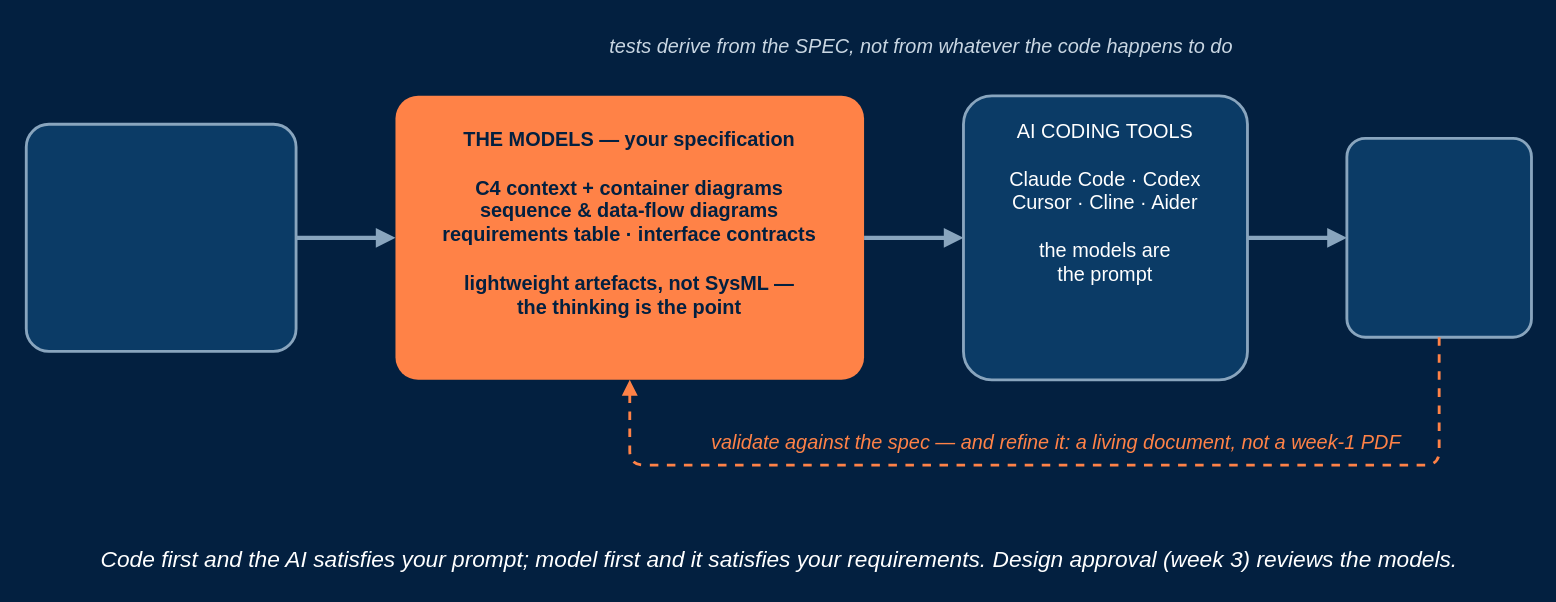
The diagram is 1556 pixels wide and 602 high, and some of its shapes have lost their labels. Here are the shapes that lost their labels. From the top down, the box of each, then its label:
(24, 122, 297, 352): USE CASE + REQUIREMENTS what must the system do, and how well?
(1345, 136, 1532, 338): CODE + TESTS
